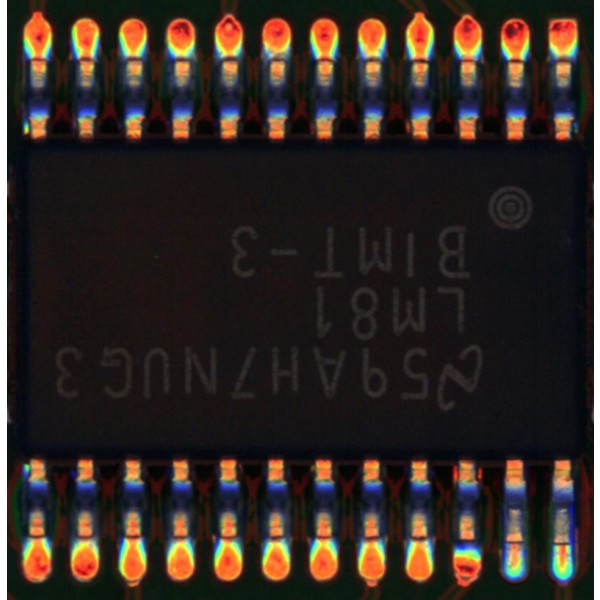Bad_podu: (318, 47, 331, 72), (127, 525, 140, 550), (510, 534, 523, 558), (510, 47, 522, 72), (462, 47, 475, 70), (30, 528, 44, 548), (81, 46, 92, 70), (319, 530, 330, 551), (415, 47, 425, 70), (415, 530, 427, 549), (367, 530, 379, 549), (33, 53, 46, 70), (559, 538, 568, 556)
